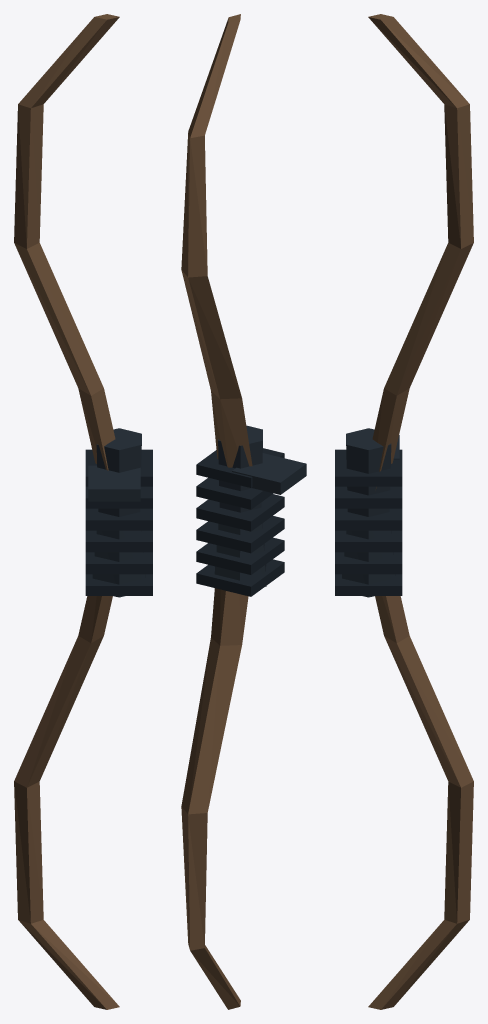
Rendered from la-bow-recurve-pov.glb.
3 renders of one model, left to right at view 1: azimuth 90°, elevation 25°; view 2: azimuth 150°, elevation 25°; view 3: azimuth 270°, elevation 25°, orthographic.
Visible parts, largest first — view 1: Surface; view 2: Surface; view 3: Surface.
Part boxes in pixels (x1,y1,x2,y2): Surface: (14, 14, 152, 1009); Surface: (181, 14, 306, 1009); Surface: (335, 14, 473, 1009).
Size of the model in its own units: 0.1195 by 1.36 by 0.173.
